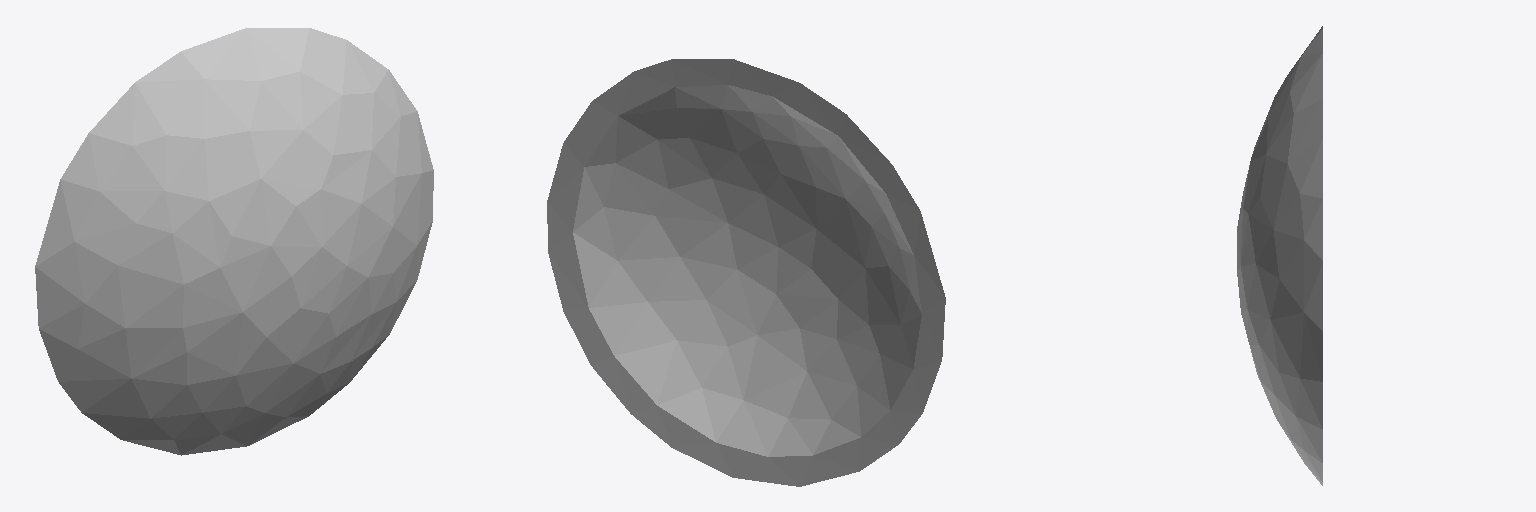
File: ball.obj
3 views of the same model, side by side, from view 1: azimuth 30°, elevation 25°; view 2: azimuth 150°, elevation 25°; view 3: azimuth 270°, elevation 25° (orthographic).
Visible parts, largest first — view 1: Transparent_lens_thing; view 2: Transparent_lens_thing; view 3: Transparent_lens_thing.
Part boxes in pixels (x1,y1,x2,y2): Transparent_lens_thing: (35, 28, 433, 455); Transparent_lens_thing: (547, 59, 945, 486); Transparent_lens_thing: (1237, 26, 1322, 485).
Size of the model in its own units: 0.1152 by 0.1156 by 0.0215.